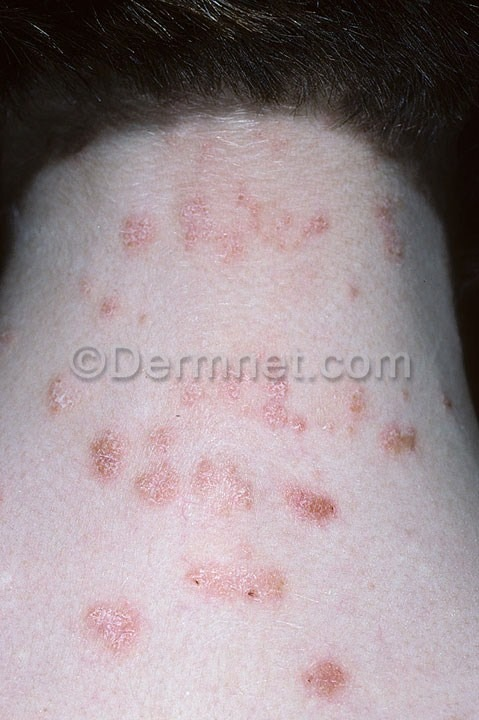Psoriasis: (97, 372, 436, 542), (119, 170, 424, 293), (170, 547, 309, 622), (57, 579, 167, 672), (60, 275, 165, 346), (274, 635, 374, 706), (32, 358, 99, 428)
